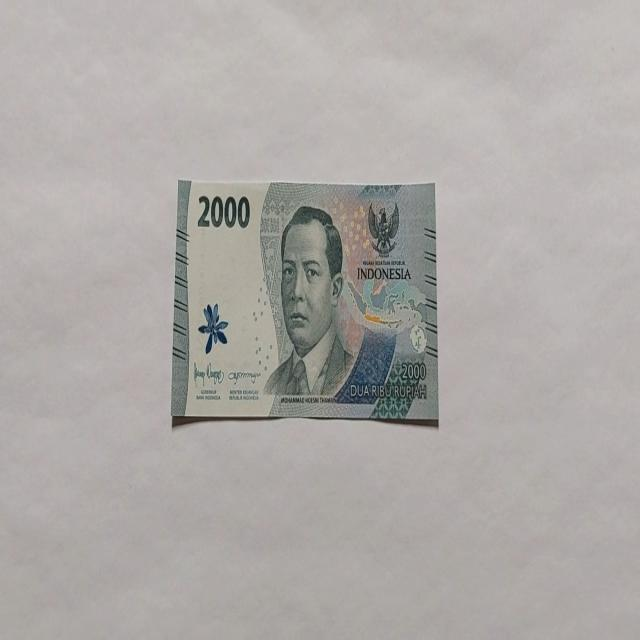dua ribu rupiah: (170, 177, 438, 427), (262, 204, 356, 398)
